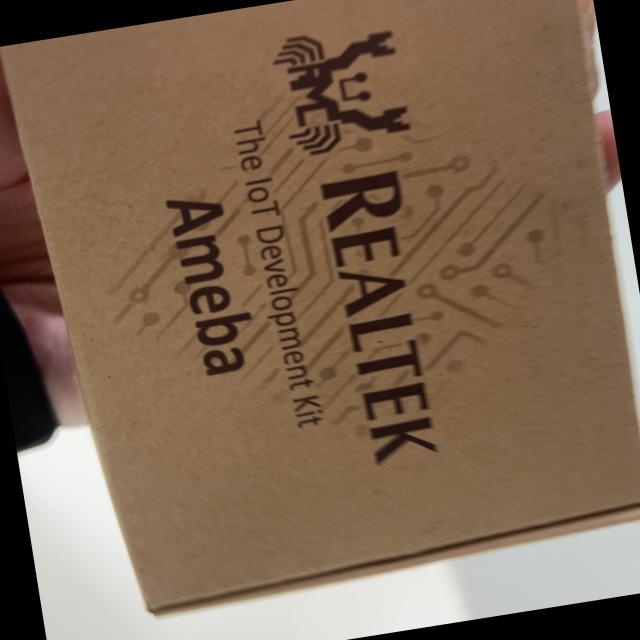box: (16, 0, 640, 636), (106, 623, 141, 640)
